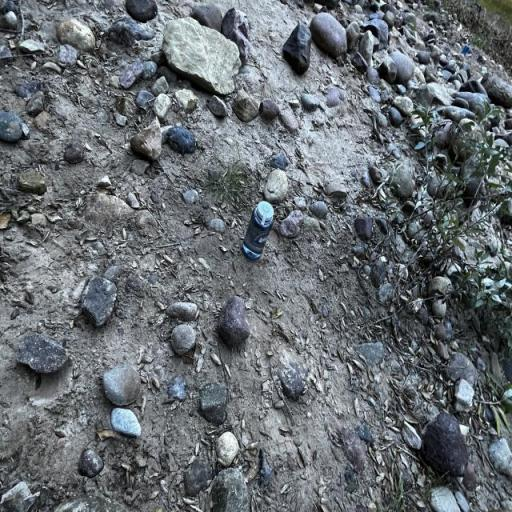bottle: (243, 202, 274, 260)
